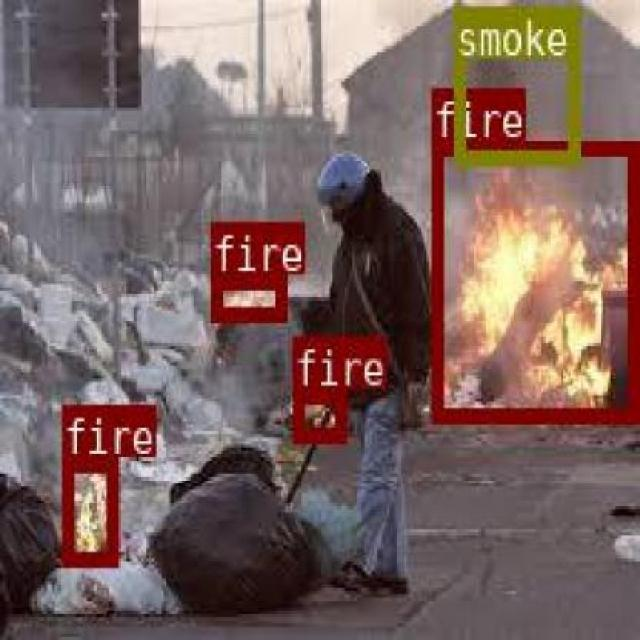Fire: (430, 140, 636, 418), (60, 454, 116, 563), (208, 274, 286, 320), (290, 388, 344, 438)
Smoke: (454, 5, 577, 164)
